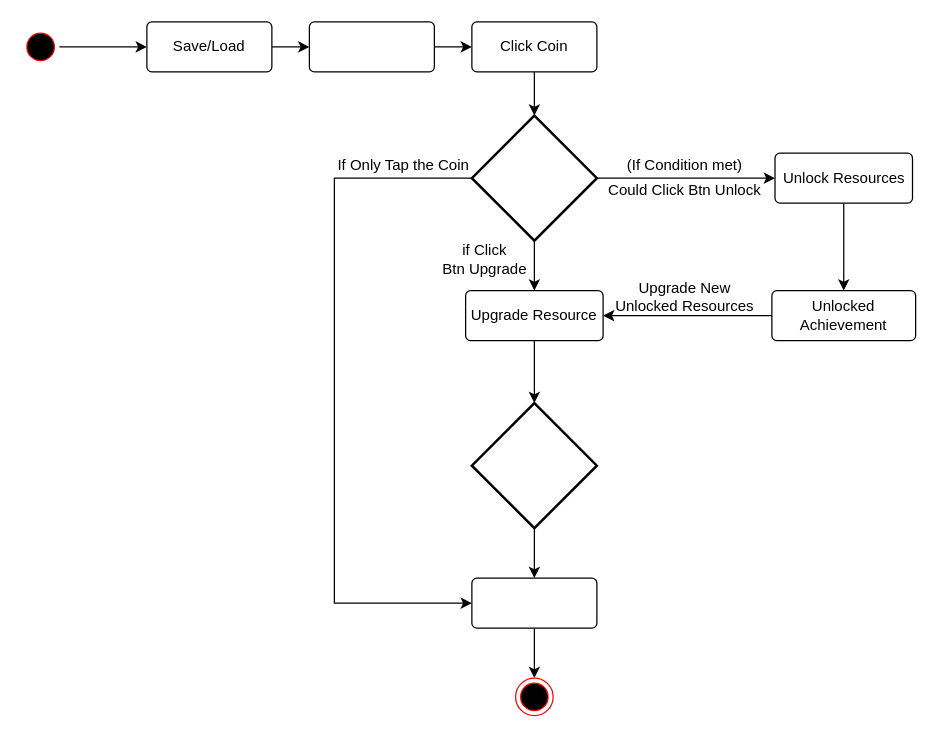
This 938x738 diagram has some shape labels left out. The centre of each missing label's shape, as x and y in pixels:
Initialized Coin: the point at 371,46
Save Data: the point at 534,602
